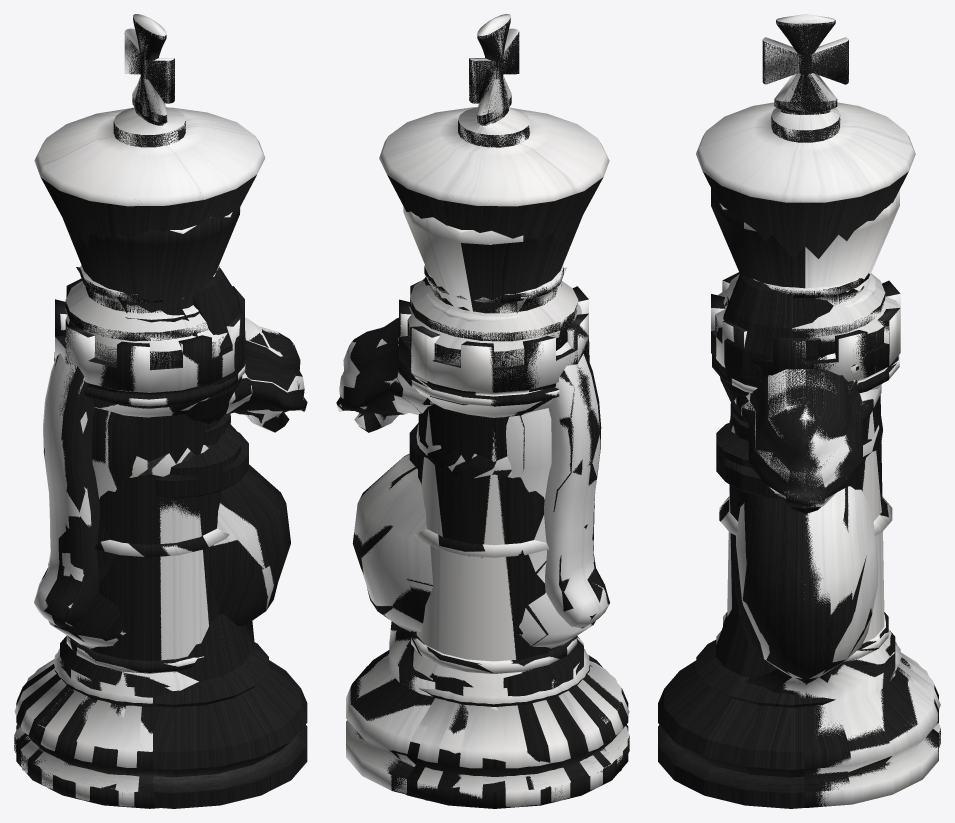
File: piece.glb
3 views of the same model, side by side, from view 1: azimuth 30°, elevation 25°; view 2: azimuth 150°, elevation 25°; view 3: azimuth 270°, elevation 25° (orthographic).
Parts seen in each view (by area): view 1: W_King_02 - Default_0, B_Bishop_1_01 - Default_0, B_Rook_1_01 - Default_0, B_Knight_1_01 - Default_0, B_Queen_01 - Default_0, W_Rook_1_02 - Default_0, B_King_01 - Default_0, W_Knight_1_02 - Default_0, W_Pawn_1_02 - Default_0, B_Pawn_1_01 - Default_0, W_Bishop_1_02 - Default_0; view 2: W_King_02 - Default_0, W_Knight_1_02 - Default_0, B_Rook_1_01 - Default_0, W_Rook_1_02 - Default_0, B_King_01 - Default_0, B_Knight_1_01 - Default_0, B_Queen_01 - Default_0, W_Queen_02 - Default_0, B_Pawn_1_01 - Default_0, W_Pawn_1_02 - Default_0, W_Bishop_1_02 - Default_0; view 3: B_Knight_1_01 - Default_0, B_Bishop_1_01 - Default_0, W_King_02 - Default_0, W_Knight_1_02 - Default_0, B_King_01 - Default_0, B_Rook_1_01 - Default_0, W_Rook_1_02 - Default_0, W_Queen_02 - Default_0, B_Queen_01 - Default_0, W_Pawn_1_02 - Default_0, B_Pawn_1_01 - Default_0.
Part boxes in pixels (left/top/right/bottom): W_King_02 - Default_0: left=14, top=14, right=265, bottom=806; B_Bishop_1_01 - Default_0: left=153, top=268, right=307, bottom=808; B_Rook_1_01 - Default_0: left=16, top=278, right=245, bottom=792; B_Knight_1_01 - Default_0: left=41, top=267, right=307, bottom=656; B_Queen_01 - Default_0: left=16, top=207, right=240, bottom=808; W_Rook_1_02 - Default_0: left=55, top=286, right=245, bottom=695; B_King_01 - Default_0: left=14, top=17, right=256, bottom=800; W_Knight_1_02 - Default_0: left=34, top=298, right=304, bottom=648; W_Pawn_1_02 - Default_0: left=16, top=445, right=229, bottom=788; B_Pawn_1_01 - Default_0: left=16, top=432, right=223, bottom=791; W_Bishop_1_02 - Default_0: left=18, top=651, right=152, bottom=764; W_King_02 - Default_0: left=379, top=14, right=629, bottom=807; W_Knight_1_02 - Default_0: left=337, top=267, right=609, bottom=794; B_Rook_1_01 - Default_0: left=398, top=281, right=621, bottom=807; W_Rook_1_02 - Default_0: left=400, top=299, right=590, bottom=779; B_King_01 - Default_0: left=387, top=18, right=629, bottom=807; B_Knight_1_01 - Default_0: left=336, top=268, right=609, bottom=794; B_Queen_01 - Default_0: left=405, top=216, right=628, bottom=808; W_Queen_02 - Default_0: left=403, top=206, right=561, bottom=805; B_Pawn_1_01 - Default_0: left=407, top=423, right=627, bottom=805; W_Pawn_1_02 - Default_0: left=410, top=424, right=627, bottom=804; W_Bishop_1_02 - Default_0: left=419, top=651, right=621, bottom=789; B_Knight_1_01 - Default_0: left=733, top=355, right=938, bottom=807; B_Bishop_1_01 - Default_0: left=658, top=273, right=857, bottom=808; W_King_02 - Default_0: left=696, top=14, right=940, bottom=747; W_Knight_1_02 - Default_0: left=734, top=353, right=938, bottom=807; B_King_01 - Default_0: left=702, top=20, right=940, bottom=745; B_Rook_1_01 - Default_0: left=711, top=272, right=900, bottom=664; W_Rook_1_02 - Default_0: left=711, top=280, right=900, bottom=664; W_Queen_02 - Default_0: left=719, top=189, right=899, bottom=380; B_Queen_01 - Default_0: left=711, top=188, right=898, bottom=665; W_Pawn_1_02 - Default_0: left=719, top=416, right=934, bottom=702; B_Pawn_1_01 - Default_0: left=719, top=416, right=938, bottom=737.
Bounding box in the file's own units: 56.71 × 150 × 51.66.
6 materials, 5 textured.
